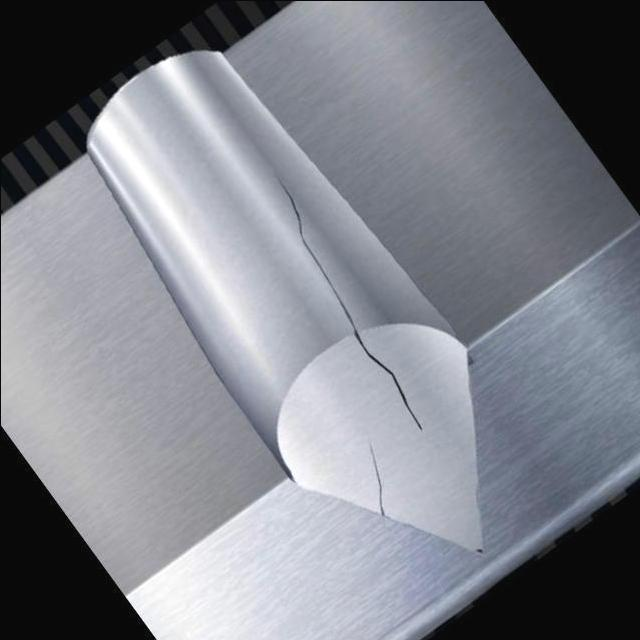defect: (269, 163, 427, 437), (363, 428, 386, 520)
